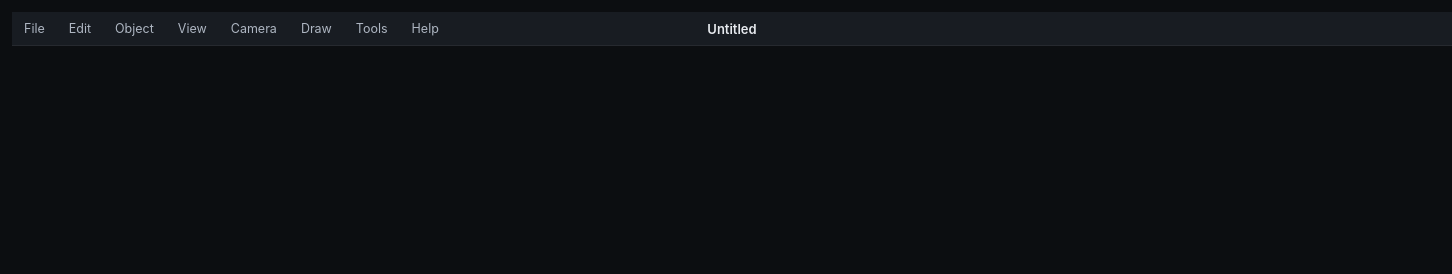
Test: MenuBar › opens the File dropdown when File is clicked
Expected: the text "New" is not shown
Click the button "File" at (34, 28), box x1=12 y1=12 x2=57 y2=45
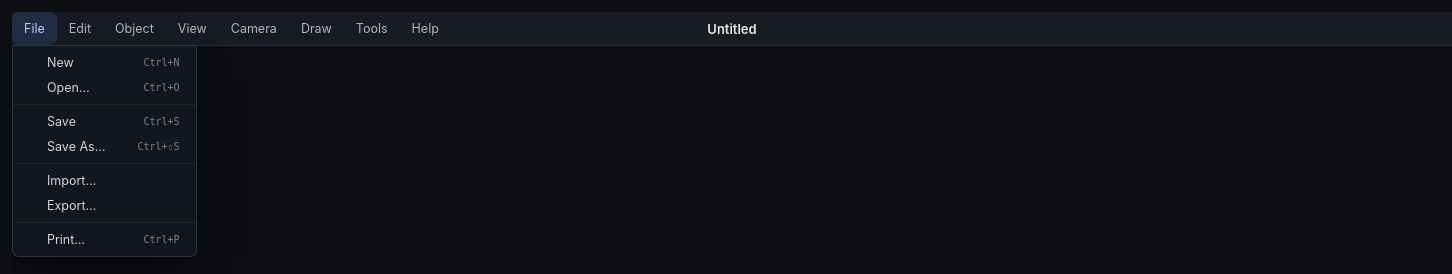
Now the text "New" is shown, box x1=47 y1=55 x2=74 y2=70
